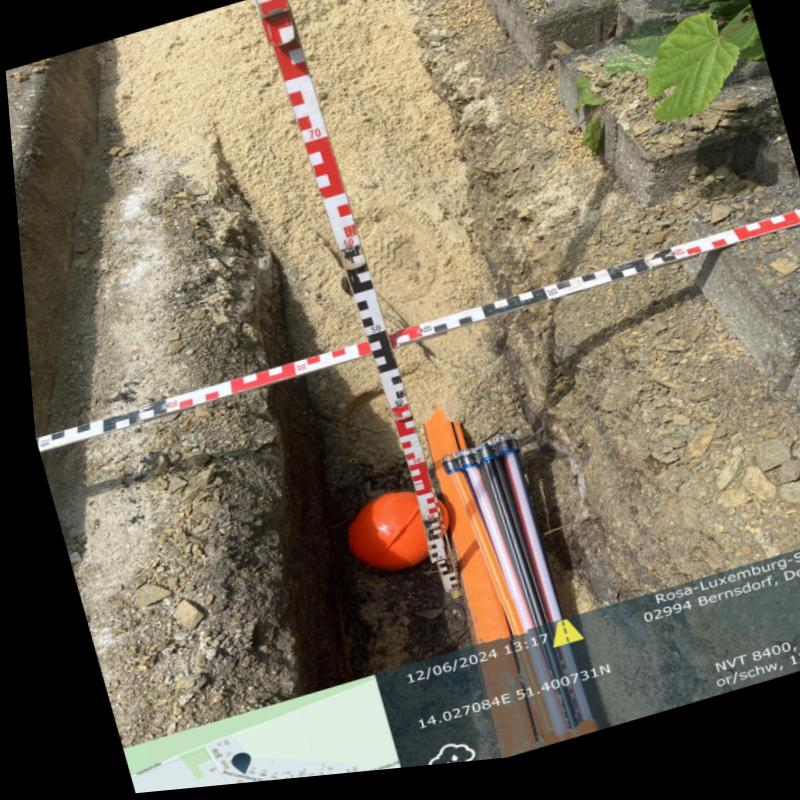Kugelmarker: (332, 495, 437, 580)
Orang-Speednetrohrchen: (414, 414, 501, 651)
